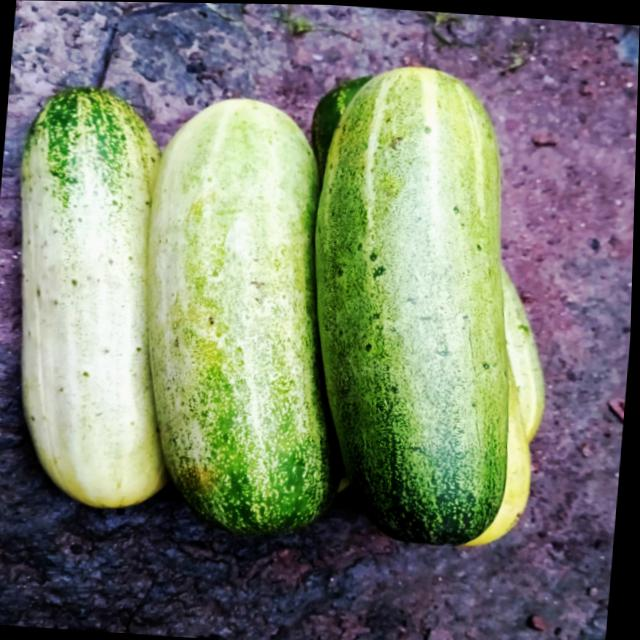Fresh-Cucumber: (289, 55, 545, 553), (125, 91, 366, 546), (0, 84, 207, 517)
